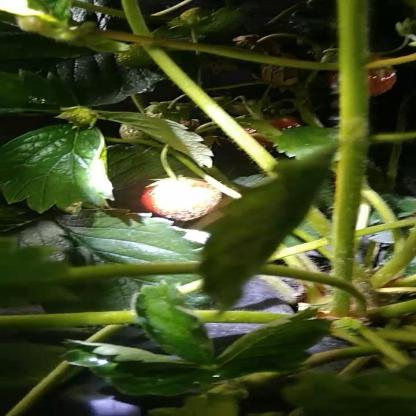ripe: (226, 108, 318, 161), (323, 58, 400, 102), (143, 179, 223, 219)
unripe: (124, 115, 183, 148)
